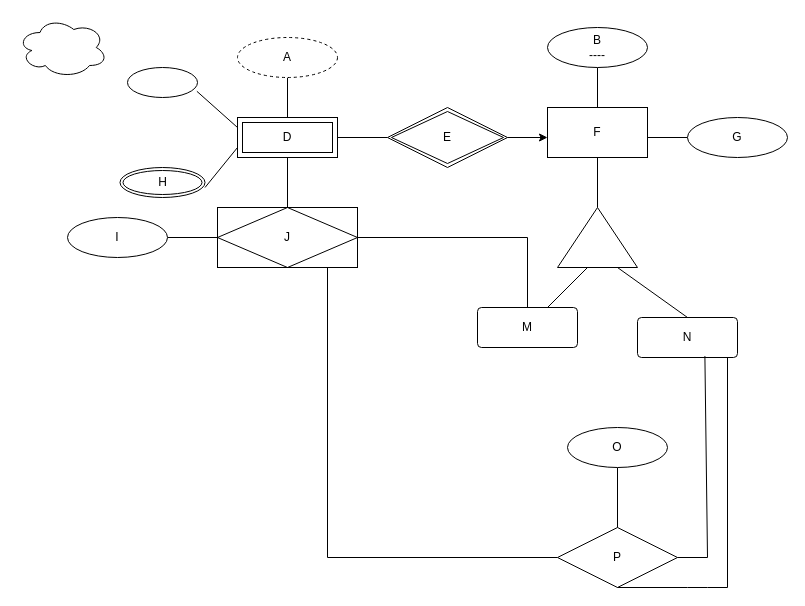
Image size: 805x606. Some labels were removed from this diagram. The shapes that lost their labels are listed below. From the top down, each one's centre as x and y in pixels, then its label:
At point (62, 47): "zk1".
At point (162, 82): "..c..".
At point (597, 237): "K,L".
